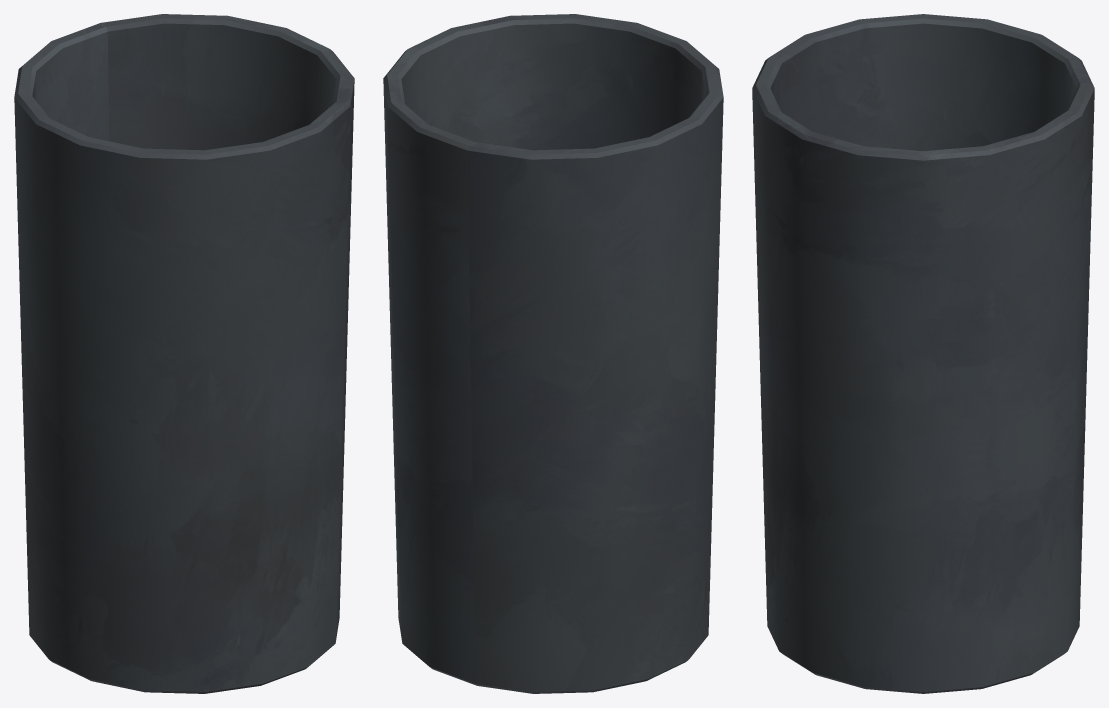
File: Trash can.fbx
3 views of the same model, side by side, from view 1: azimuth 30°, elevation 25°; view 2: azimuth 150°, elevation 25°; view 3: azimuth 270°, elevation 25° (orthographic).
Parts seen in each view (by area): view 1: Trash can; view 2: Trash can; view 3: Trash can.
Boxes of the visible parts, x1,y1,x2,y2 form: Trash can: [14, 14, 354, 693]; Trash can: [383, 14, 723, 693]; Trash can: [752, 14, 1094, 693].
Bounding box in the file's own units: 44.82 × 78.63 × 44.82.
